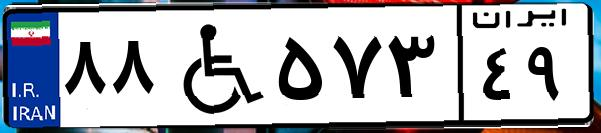3: (385, 28, 445, 110)
4: (475, 38, 525, 113)
5: (270, 28, 330, 110)
7: (330, 28, 385, 110)
8: (57, 26, 110, 100), (110, 28, 158, 98)
9: (525, 38, 570, 115)
ژ (معلولین و جانبازان): (158, 12, 270, 120)
